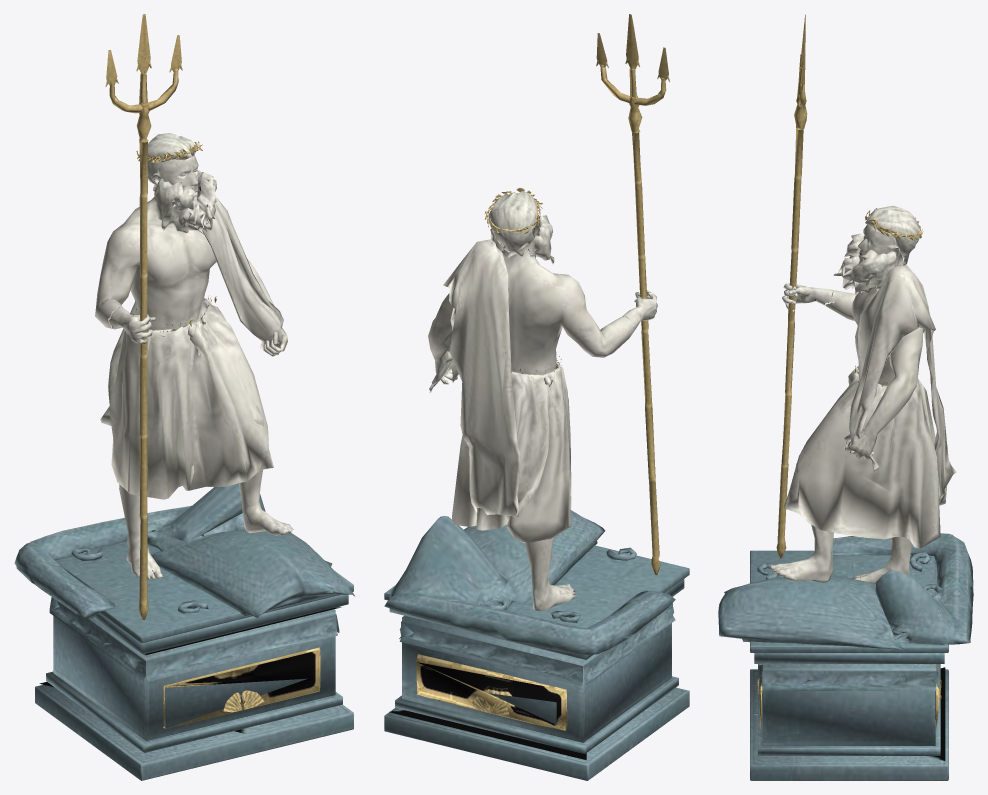
Rendered from guardian-tides-mobile.glb.
3 views of the same model, side by side, from view 1: azimuth 30°, elevation 25°; view 2: azimuth 150°, elevation 25°; view 3: azimuth 270°, elevation 25° (orthographic). The views are drawn at different scales.
Visible parts, largest first — view 1: TIDES__PEDESTAL, TIDES__CLOTH, TIDES__WAVES, TIDES__BODY, TIDES__TRIDENT, TIDES__DETAILS, TIDES__HAIR_BEARD, TIDES__FACE, TIDES__HAND_GRIP; view 2: TIDES__PEDESTAL, TIDES__CLOTH, TIDES__WAVES, TIDES__BODY, TIDES__DETAILS, TIDES__TRIDENT, TIDES__HAIR_BEARD, TIDES__HAND_GRIP; view 3: TIDES__PEDESTAL, TIDES__CLOTH, TIDES__WAVES, TIDES__BODY, TIDES__TRIDENT, TIDES__HAIR_BEARD, TIDES__HAND_GRIP, TIDES__FACE, TIDES__DETAILS.
Boxes of the visible parts, box(x1,y1,x2,y2) form: TIDES__PEDESTAL: box(35, 541, 353, 780); TIDES__CLOTH: box(100, 196, 283, 499); TIDES__WAVES: box(14, 483, 354, 618); TIDES__BODY: box(95, 176, 293, 579); TIDES__TRIDENT: box(105, 14, 182, 619); TIDES__DETAILS: box(132, 141, 320, 728); TIDES__HAIR_BEARD: box(148, 133, 216, 234); TIDES__FACE: box(152, 156, 199, 200); TIDES__HAND_GRIP: box(109, 308, 155, 344); TIDES__PEDESTAL: box(384, 545, 689, 780); TIDES__CLOTH: box(429, 239, 571, 542); TIDES__WAVES: box(384, 510, 675, 654); TIDES__BODY: box(428, 245, 633, 610); TIDES__DETAILS: box(416, 188, 567, 730); TIDES__TRIDENT: box(596, 14, 669, 574); TIDES__HAIR_BEARD: box(489, 191, 554, 264); TIDES__HAND_GRIP: box(622, 290, 657, 333); TIDES__PEDESTAL: box(750, 550, 948, 780); TIDES__CLOTH: box(784, 265, 956, 548); TIDES__WAVES: box(718, 533, 973, 649); TIDES__BODY: box(770, 253, 925, 583); TIDES__TRIDENT: box(776, 14, 807, 558); TIDES__HAIR_BEARD: box(833, 205, 919, 295); TIDES__HAND_GRIP: box(782, 283, 834, 312); TIDES__FACE: box(858, 224, 900, 266); TIDES__DETAILS: box(757, 208, 941, 730).
Size of the model in its own units: 3.37 by 9.9 by 3.35.
Materials: 3 (3 with a texture image).
